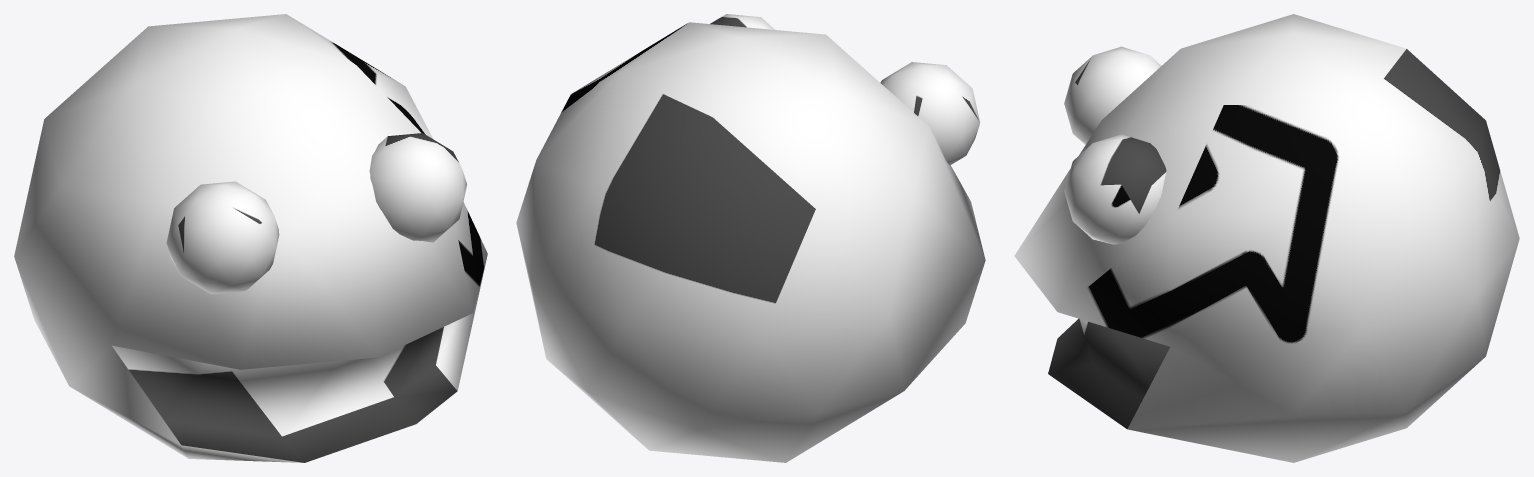
Rendered from enemy.obj.
3 renders of one model, left to right at view 1: azimuth 30°, elevation 25°; view 2: azimuth 150°, elevation 25°; view 3: azimuth 270°, elevation 25°, orthographic.
Parts seen in each view (by area): view 1: Icosphere; view 2: Icosphere; view 3: Icosphere.
Boxes of the visible parts, left/top/right/bottom form: Icosphere: left=14, top=14, right=487, bottom=462; Icosphere: left=516, top=14, right=985, bottom=462; Icosphere: left=1014, top=14, right=1519, bottom=462.
Bounding box in the file's own units: 0.9511 × 1 × 1.12.
